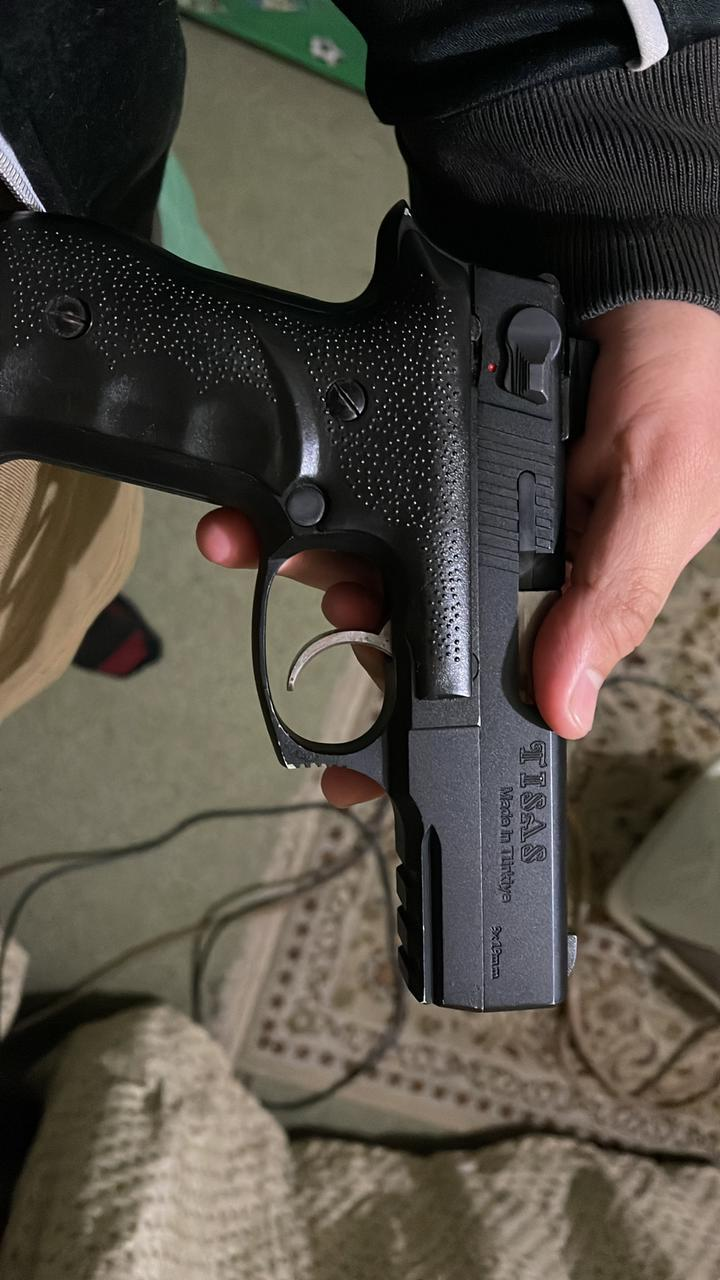weapon: (0, 203, 578, 1012)
